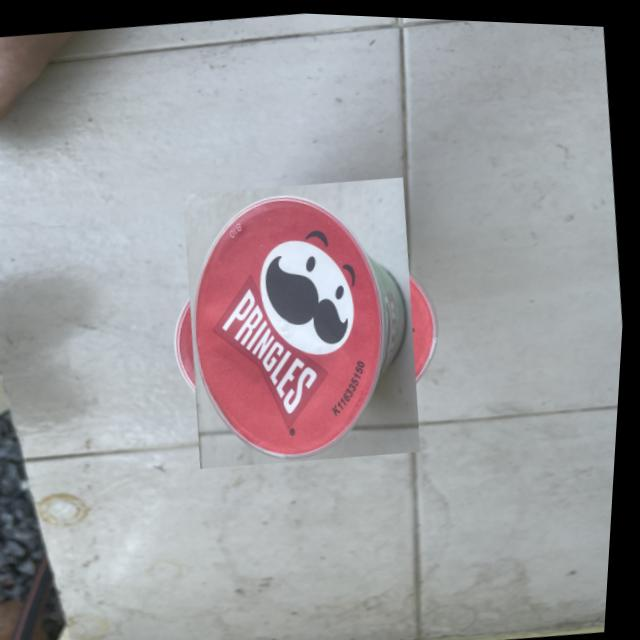a pringles: (161, 177, 451, 463)
